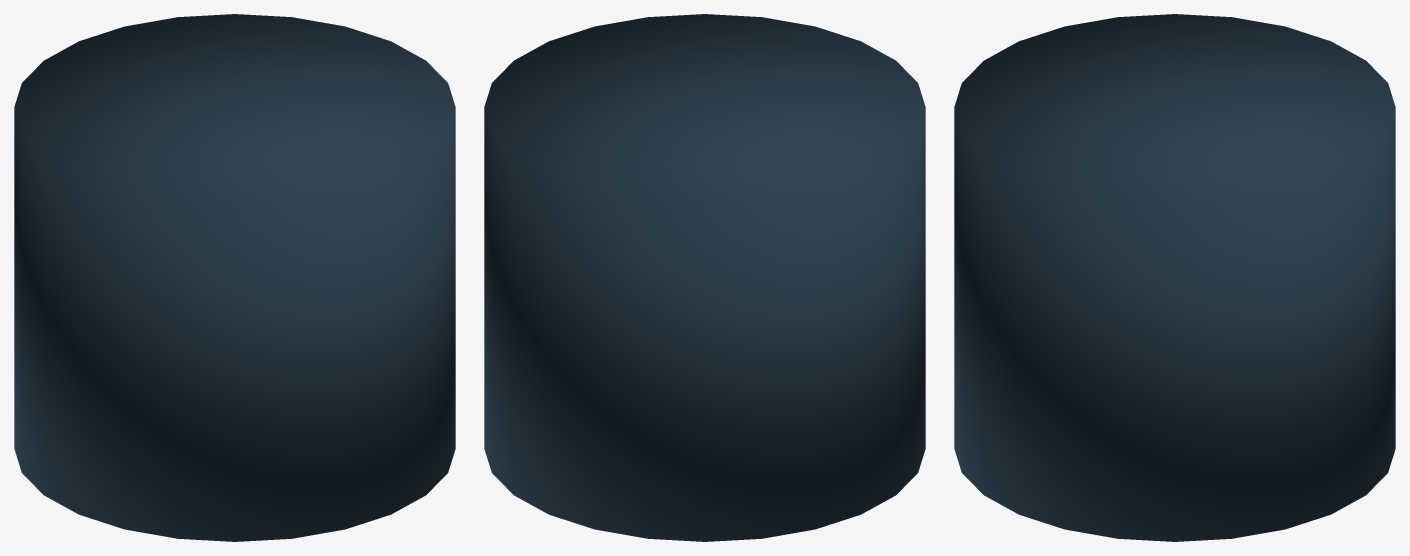
The model's file is ankle_cuff.glb.
The picture shows the model from 3 angles, left to right: view 1: azimuth 30°, elevation 25°; view 2: azimuth 150°, elevation 25°; view 3: azimuth 270°, elevation 25°; orthographic projection.
Visible parts, largest first — view 1: cuff; view 2: cuff; view 3: cuff.
Part boxes in pixels (box(x1,y1,x2,y2)): cuff: box(14, 14, 455, 541); cuff: box(484, 14, 925, 541); cuff: box(954, 14, 1395, 541).
Size of the model in its own units: 0.082 by 0.07 by 0.082.
